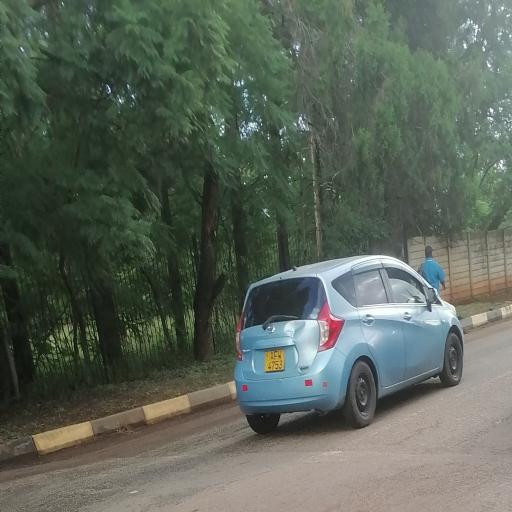number-plates: (264, 343, 287, 371)
